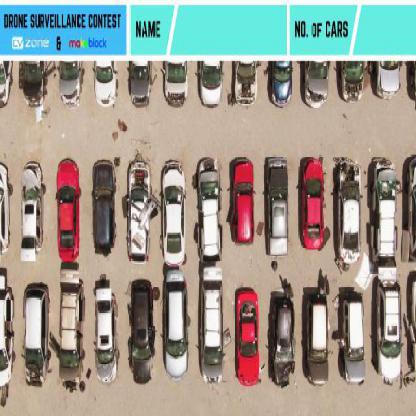car: (375, 273, 401, 384), (233, 286, 261, 388), (371, 155, 397, 263), (161, 169, 189, 267), (131, 282, 157, 384), (125, 157, 149, 263), (22, 286, 46, 392), (95, 289, 121, 385), (335, 164, 359, 266), (269, 294, 294, 390), (92, 163, 118, 253), (300, 166, 328, 248), (55, 171, 82, 256), (197, 167, 223, 255), (305, 294, 329, 383), (202, 286, 224, 383), (265, 161, 289, 249), (165, 290, 189, 378), (237, 294, 261, 381), (19, 172, 43, 258), (62, 275, 80, 388), (231, 159, 252, 242), (347, 297, 367, 381), (301, 61, 329, 109), (19, 65, 47, 107), (199, 60, 223, 108), (129, 61, 153, 108), (163, 61, 187, 108), (268, 60, 292, 106), (94, 61, 118, 107), (60, 61, 84, 106), (235, 63, 258, 108), (377, 61, 403, 99), (341, 62, 365, 102), (0, 62, 11, 114)
